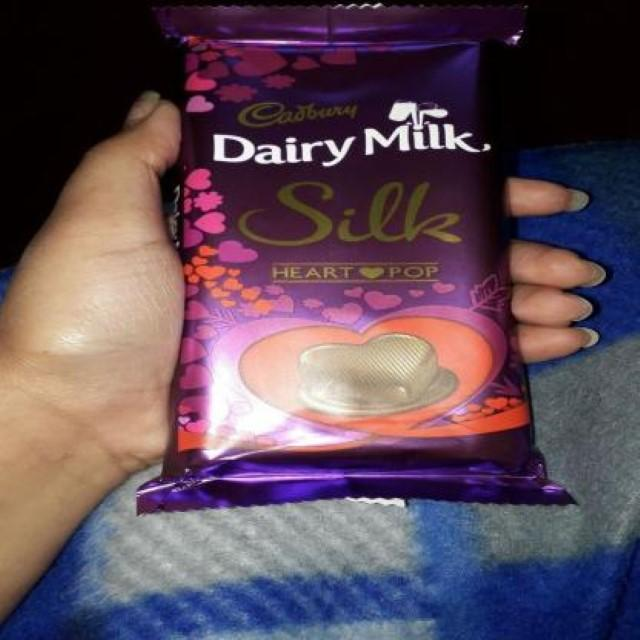cadbury_chocolate: (175, 28, 553, 527)
